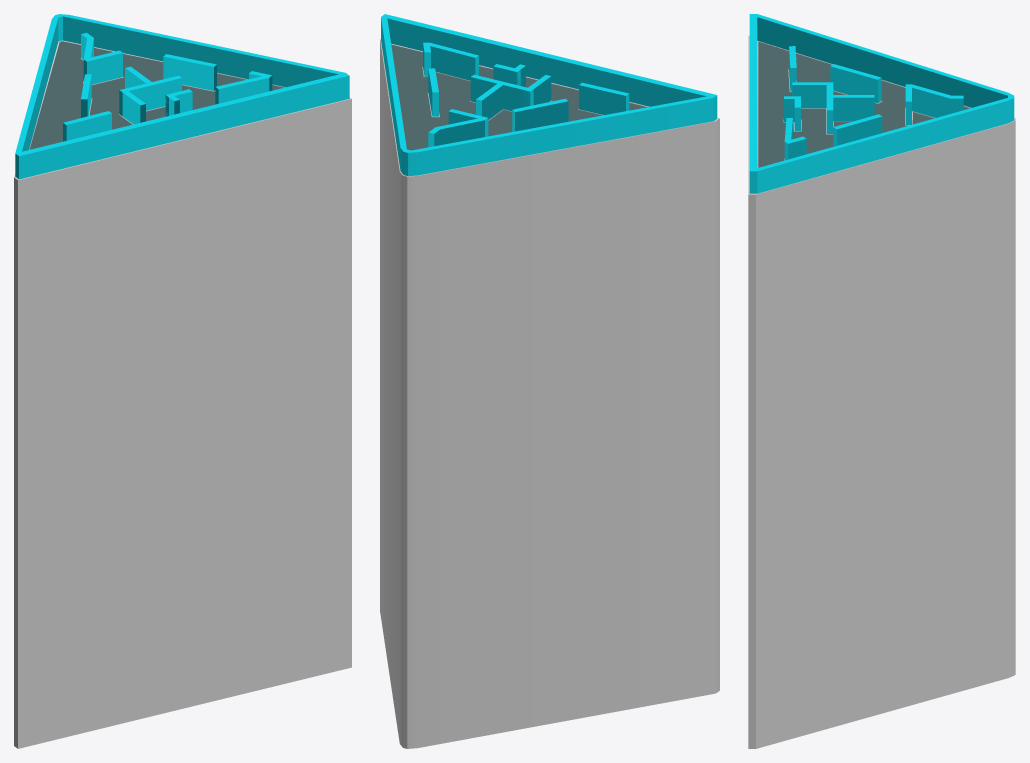
Rendered from Level_9.FBX.
The picture shows the model from 3 angles, left to right: view 1: azimuth 30°, elevation 25°; view 2: azimuth 150°, elevation 25°; view 3: azimuth 270°, elevation 25°; orthographic projection. The views are drawn at different scales.
Visible parts, largest first — view 1: Level_9; view 2: Level_9; view 3: Level_9.
Part boxes in pixels (bbox=[...]): Level_9: bbox=[14, 14, 351, 748]; Level_9: bbox=[380, 14, 719, 748]; Level_9: bbox=[748, 14, 1015, 748].
Bounding box in the file's own units: 191 × 324 × 136.
